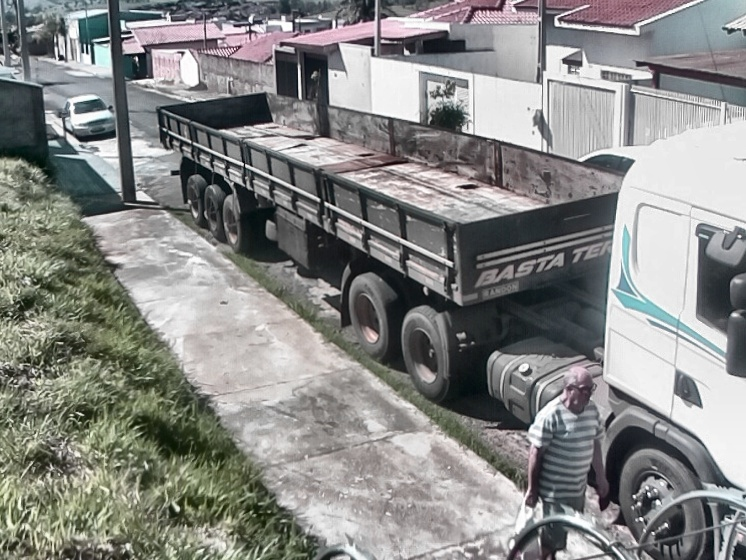person: (524, 365, 612, 560)
